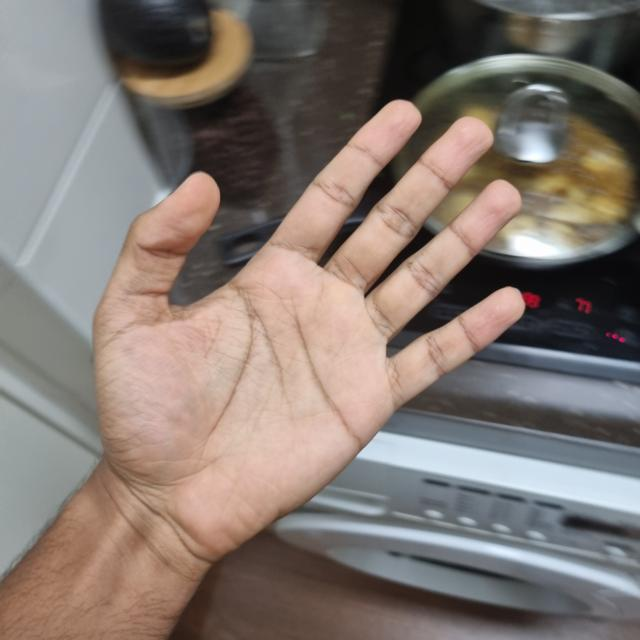Paper: (110, 98, 523, 558)
